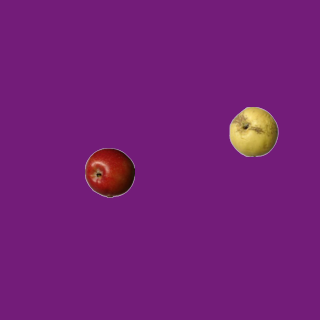Apple Braeburn: (84, 147, 134, 197)
Apple Golden 1: (228, 106, 278, 156)
